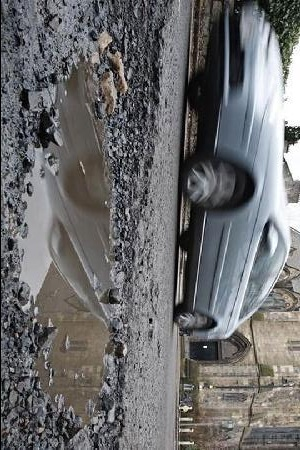pothole: (12, 43, 143, 444)
